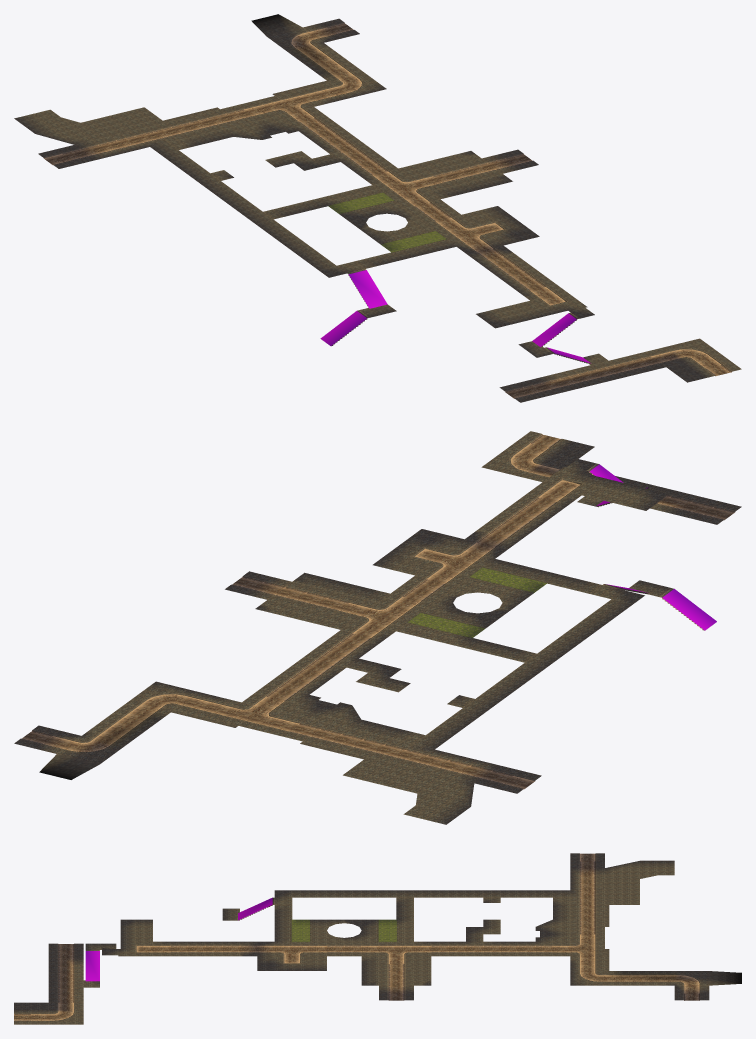
Rendered from M7_Zone2.glb.
3 renders of one model, top to bottom at view 1: azimuth 30°, elevation 25°; view 2: azimuth 150°, elevation 25°; view 3: azimuth 270°, elevation 25°, orthographic. The views are drawn at different scales.
Parts seen in each view (by area): view 1: M7_ZONE2020, M7_ZONE2047, M7_ZONE2046, M7_ZONE2029, M7_ZONE2069, M7_ZONE2002, M7_ZONE2068, M7_ZONE2083, M7_ZONE2066, M7_ZONE2006, M7_ZONE2013, M7_ZONE2018 (+37 smaller); view 2: M7_ZONE2039, M7_ZONE2038, M7_ZONE2071, M7_ZONE2024, M7_ZONE2037, M7_ZONE2023, M7_ZONE2002, M7_ZONE2013, M7_ZONE2064, M7_ZONE2065, M7_ZONE2066, M7_ZONE2084 (+35 smaller); view 3: M7_ZONE2045, M7_ZONE2057, M7_ZONE2037, M7_ZONE2018, M7_ZONE2062, M7_ZONE2023, M7_ZONE2, M7_ZONE2013, M7_ZONE2014, M7_ZONE2028, M7_ZONE2033, M7_ZONE2050 (+40 smaller).
Boxes of the visible parts, bbox=[...] form: M7_ZONE2020: bbox=[337, 257, 387, 303]; M7_ZONE2047: bbox=[435, 151, 491, 175]; M7_ZONE2046: bbox=[398, 159, 455, 184]; M7_ZONE2029: bbox=[462, 206, 518, 230]; M7_ZONE2069: bbox=[257, 91, 313, 115]; M7_ZONE2002: bbox=[499, 378, 556, 402]; M7_ZONE2068: bbox=[220, 100, 277, 124]; M7_ZONE2083: bbox=[267, 27, 323, 51]; M7_ZONE2066: bbox=[147, 118, 204, 142]; M7_ZONE2006: bbox=[645, 343, 702, 367]; M7_ZONE2013: bbox=[509, 276, 566, 300]; M7_ZONE2018: bbox=[467, 245, 523, 269]; M7_ZONE2039: bbox=[280, 572, 346, 601]; M7_ZONE2038: bbox=[323, 583, 389, 612]; M7_ZONE2071: bbox=[131, 681, 198, 709]; M7_ZONE2024: bbox=[397, 529, 464, 557]; M7_ZONE2037: bbox=[366, 593, 432, 622]; M7_ZONE2023: bbox=[440, 539, 506, 567]; M7_ZONE2002: bbox=[674, 496, 741, 524]; M7_ZONE2013: bbox=[514, 485, 581, 513]; M7_ZONE2064: bbox=[432, 755, 498, 783]; M7_ZONE2065: bbox=[389, 744, 455, 772]; M7_ZONE2066: bbox=[346, 734, 412, 762]; M7_ZONE2084: bbox=[14, 725, 80, 753]; M7_ZONE2045: bbox=[396, 941, 431, 956]; M7_ZONE2057: bbox=[500, 941, 535, 956]; M7_ZONE2037: bbox=[361, 941, 396, 956]; M7_ZONE2018: bbox=[222, 941, 257, 956]; M7_ZONE2062: bbox=[535, 941, 570, 956]; M7_ZONE2023: bbox=[257, 941, 292, 956]; M7_ZONE2: bbox=[14, 1002, 48, 1017]; M7_ZONE2013: bbox=[153, 941, 187, 956]; M7_ZONE2014: bbox=[188, 941, 222, 956]; M7_ZONE2028: bbox=[292, 941, 326, 956]; M7_ZONE2033: bbox=[327, 941, 361, 956]; M7_ZONE2050: bbox=[431, 941, 465, 956].
Size of the model in its own units: 80.01 by 8.15 by 168.
28 materials, 27 textured.
